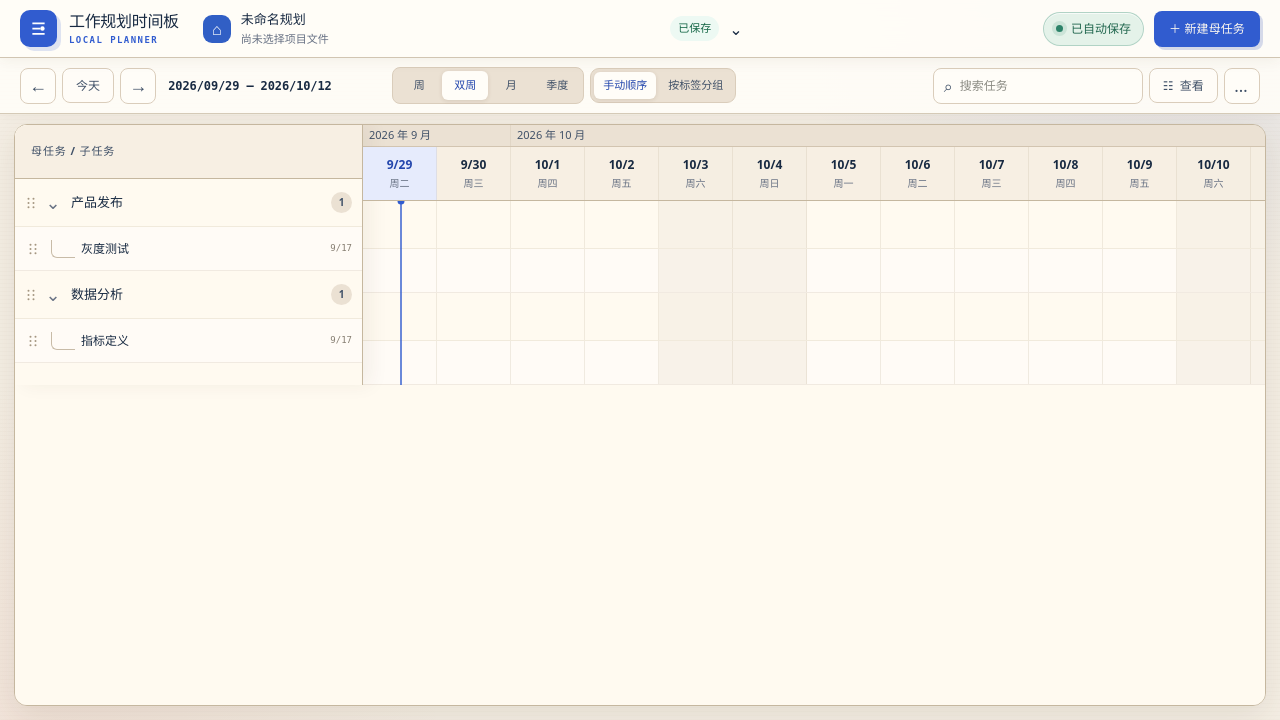
Test case: App › switches view and filters tasks by child name
Expected: the button "产品发布" is shown, [67,188,331,217]
Click the button "月" at x=511, y=86, box [488,71,534,100]
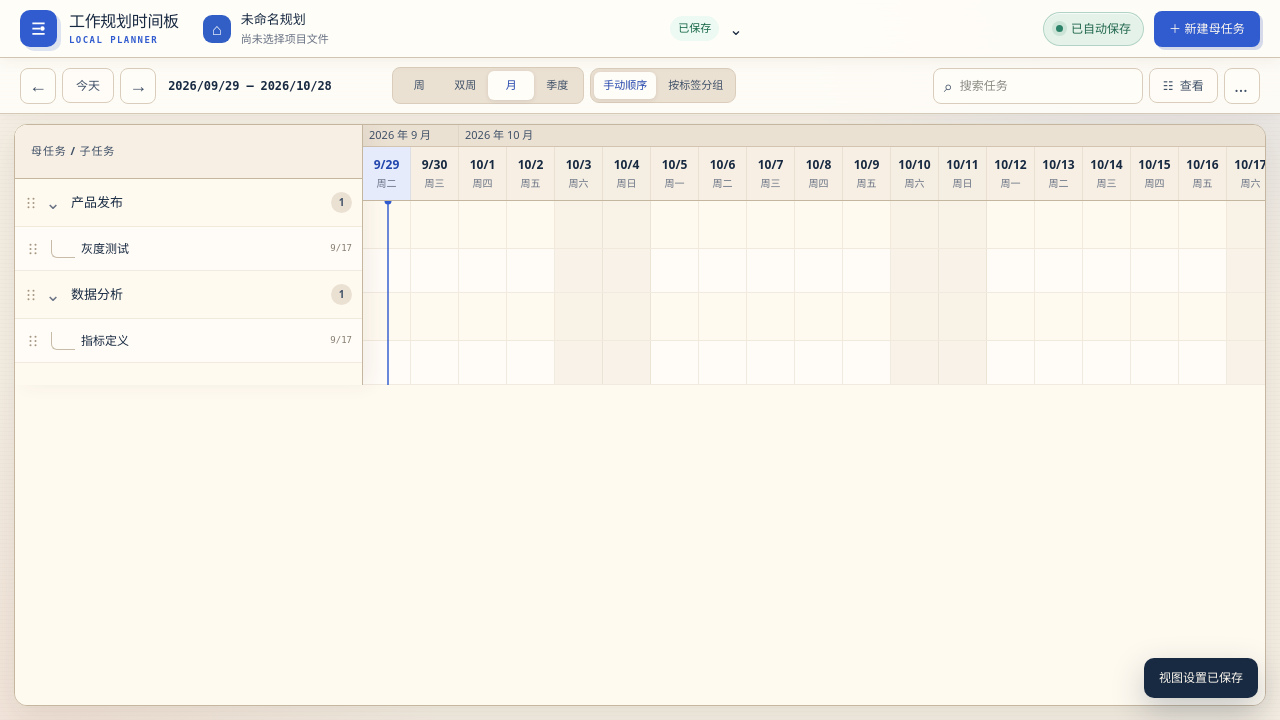
Expected: the button "月" is pressed, [488,71,534,100]
Type "灰度" into the search field with placeholder "搜索任务" at x=1046, y=86, box [960,76,1132,94]
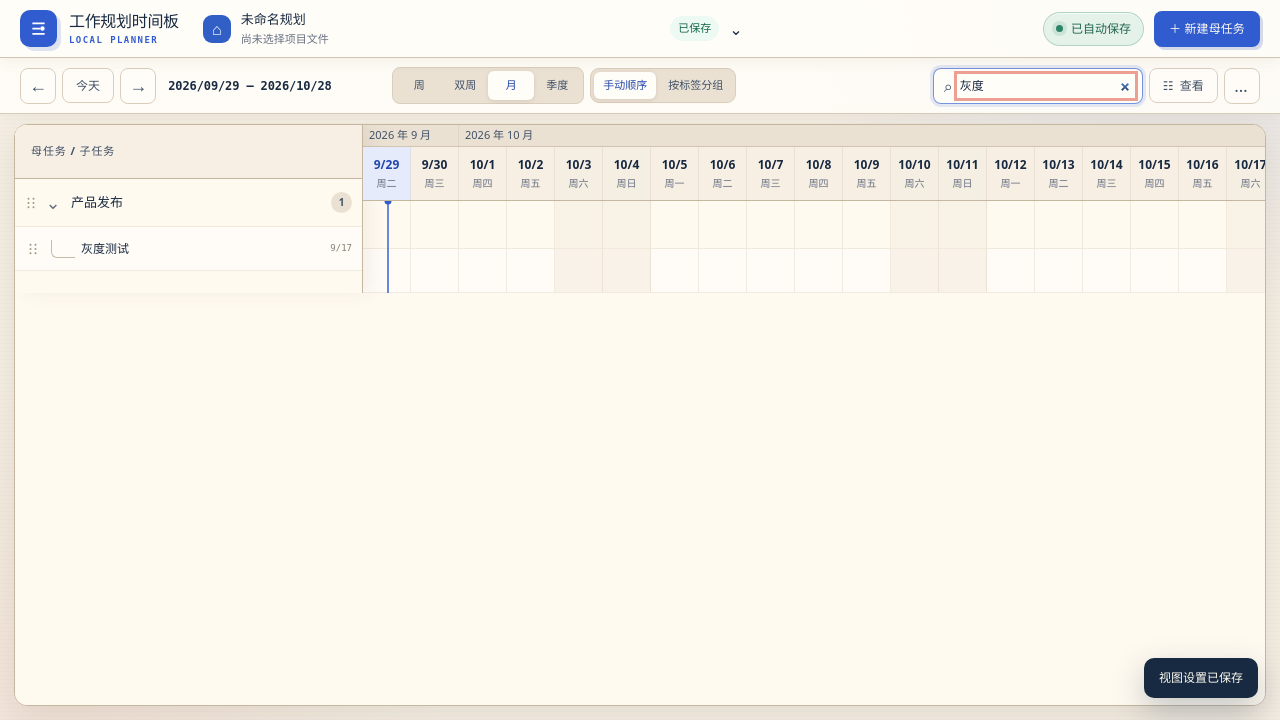
Expected: the button "产品发布" is shown, [67,188,331,217]
Expected: the button "数据分析" is gone
